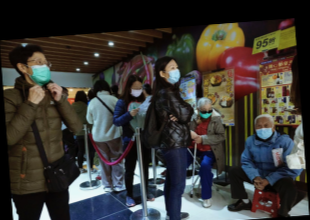with_mask: (25, 55, 51, 86), (255, 121, 274, 140), (165, 62, 181, 84), (129, 84, 143, 98), (199, 106, 214, 119)
